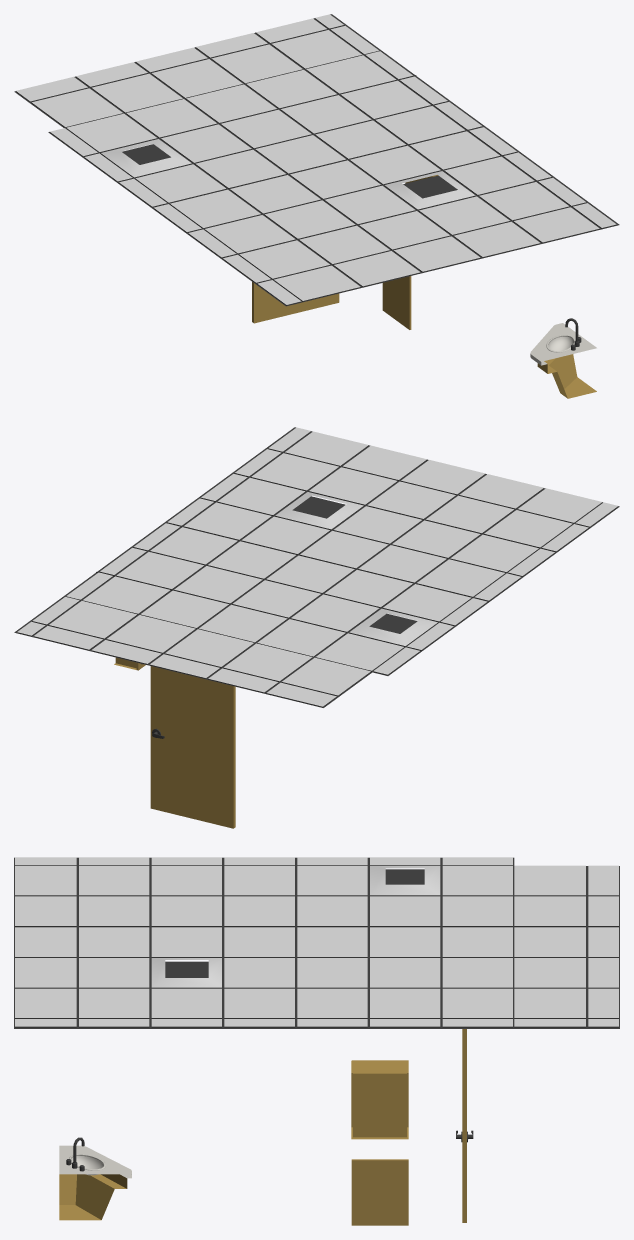
Rendered from Room_FixedGeo.fbx.
The picture shows the model from 3 angles, top to bottom: view 1: azimuth 30°, elevation 25°; view 2: azimuth 150°, elevation 25°; view 3: azimuth 270°, elevation 25°; orthographic projection. The views are drawn at different scales.
Visible parts, largest first — view 1: RoomCeiling, Sink_2, BathroomDoor_2, Board; view 2: RoomCeiling, BathroomDoor_2; view 3: RoomCeiling, CabinetWall_2, Sink_2, Board, BathroomDoor_2.
Boxes of the visible parts, bbox=[...] form: RoomCeiling: bbox=[14, 14, 619, 306]; Sink_2: bbox=[530, 318, 596, 398]; BathroomDoor_2: bbox=[252, 282, 339, 323]; Board: bbox=[382, 276, 411, 329]; RoomCeiling: bbox=[14, 427, 619, 707]; BathroomDoor_2: bbox=[150, 666, 235, 828]; RoomCeiling: bbox=[14, 857, 619, 1028]; CabinetWall_2: bbox=[351, 1061, 408, 1139]; Sink_2: bbox=[59, 1137, 131, 1220]; Board: bbox=[351, 1159, 408, 1225]; BathroomDoor_2: bbox=[456, 1029, 473, 1222].
Size of the model in its own units: 10.37 by 6.59 by 15.5.
